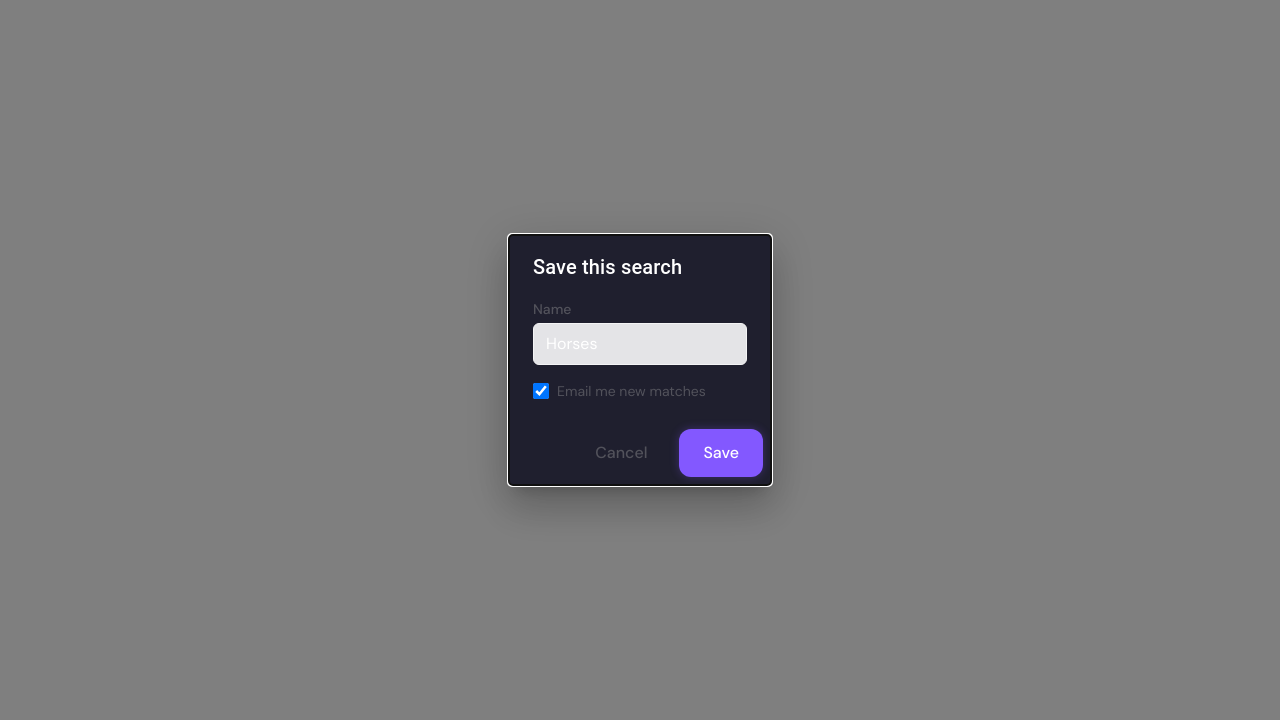
Test case: SavedSearchFormDialog › shows the message of an error response that did not throw
Click the button "Save".
click(721, 453)  # box x1=680 y1=429 x2=763 y2=477
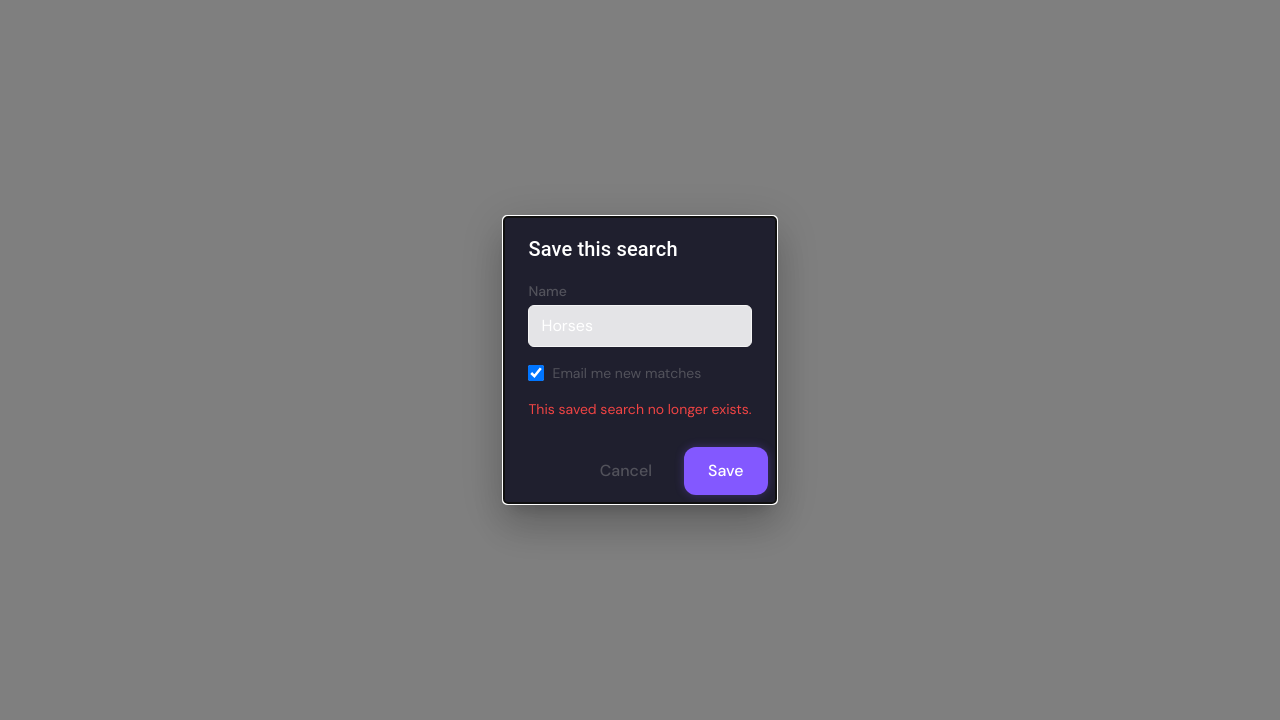
expect the text "This saved search no longer exists." is shown: met, box x1=528 y1=399 x2=752 y2=419
